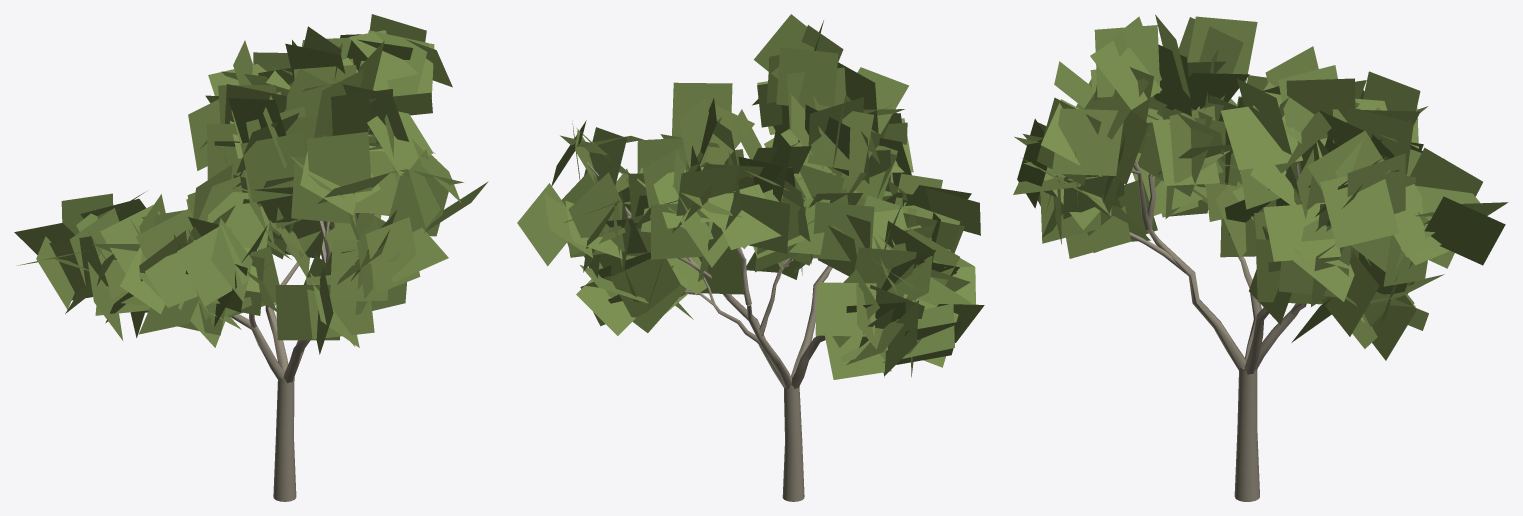
The model's file is SM_VB_PlaneTree_A.fbx.
The picture shows the model from 3 angles, left to right: view 1: azimuth 30°, elevation 25°; view 2: azimuth 150°, elevation 25°; view 3: azimuth 270°, elevation 25°; orthographic projection. The views are drawn at different scales.
Visible parts, largest first — view 1: SM_VB_PlaneTree_A; view 2: SM_VB_PlaneTree_A; view 3: SM_VB_PlaneTree_A.
Part boxes in pixels (x1,y1,x2,y2): SM_VB_PlaneTree_A: (14,14,488,501); SM_VB_PlaneTree_A: (517,14,984,501); SM_VB_PlaneTree_A: (1013,14,1508,501).
Size of what is drawn, in the model's own units: 11.9 by 11.78 by 10.88.
